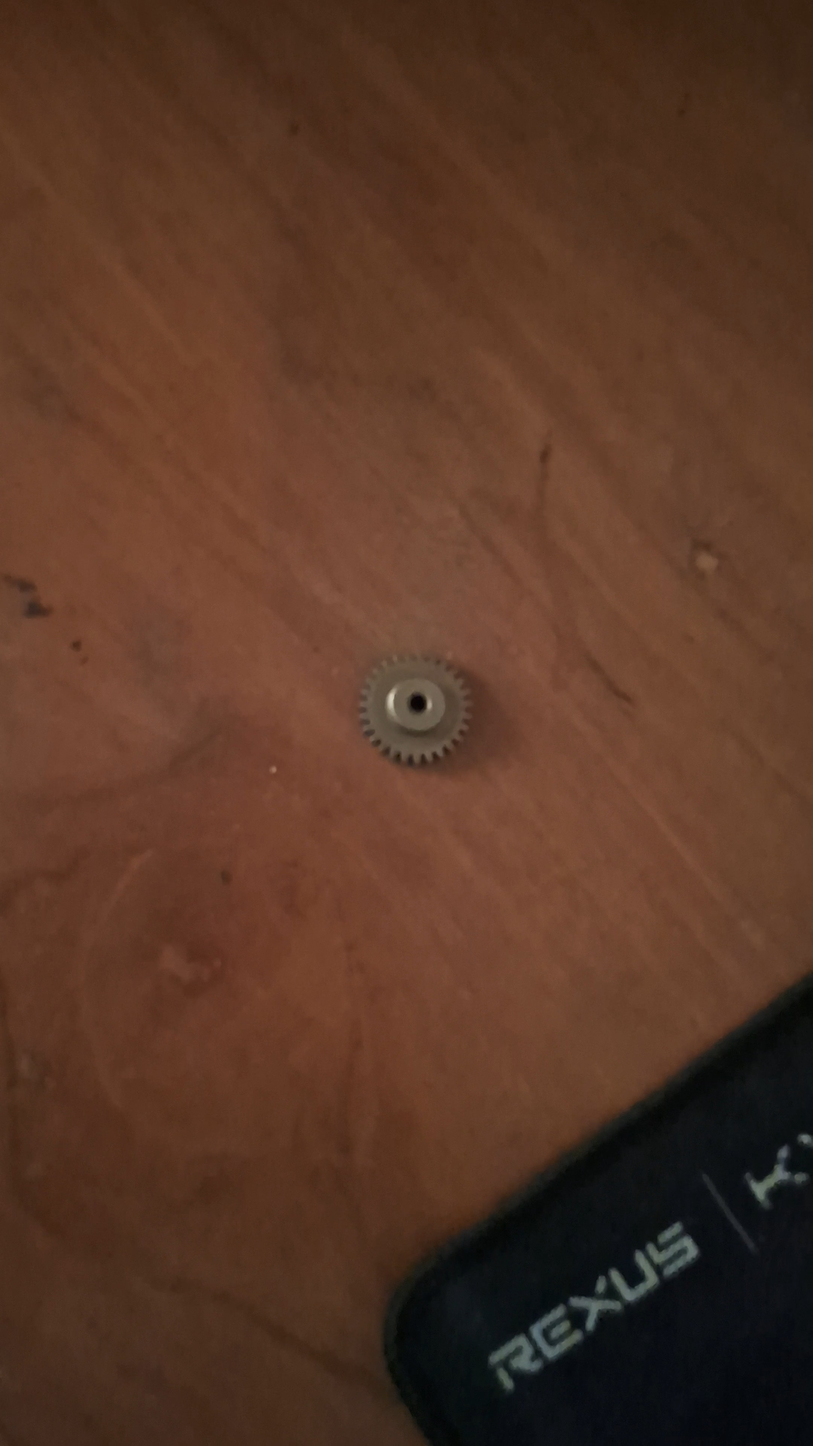spur gear: (360, 657, 470, 765)
